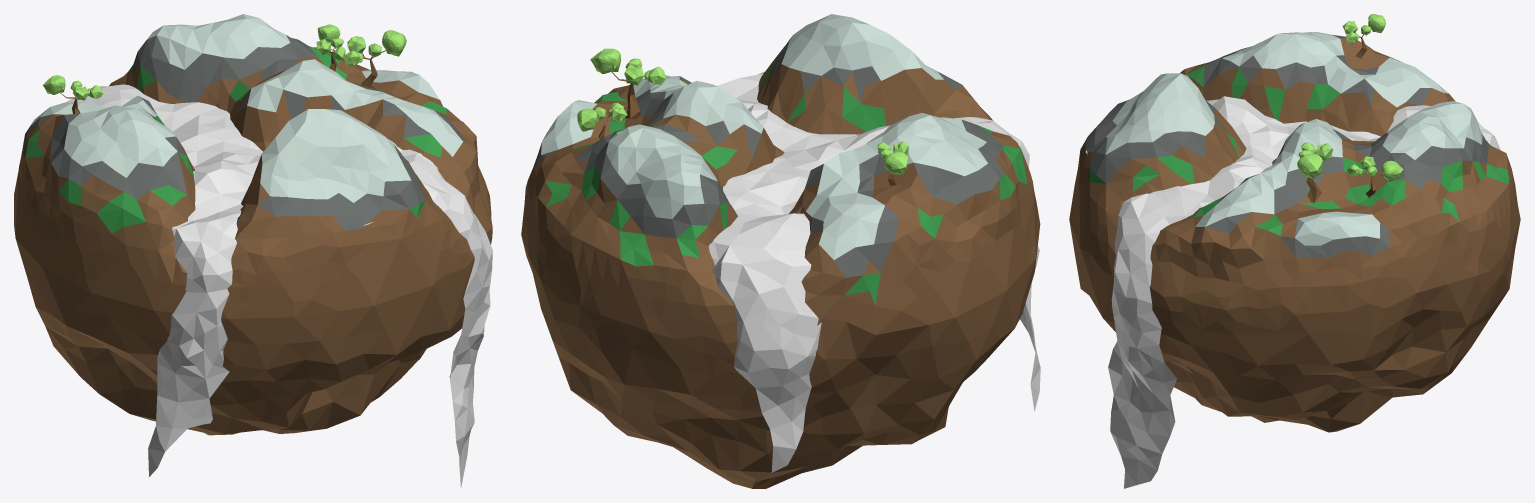
File: island1.glb
3 views of the same model, side by side, from view 1: azimuth 30°, elevation 25°; view 2: azimuth 150°, elevation 25°; view 3: azimuth 270°, elevation 25° (orthographic). The views are drawn at different scales.
Parts seen in each view (by area): view 1: Icosphere.002, Plane.059; view 2: Icosphere.002, Plane.059, Icosphere.005; view 3: Icosphere.002, Plane.059, Icosphere.005.
Part boxes in pixels (bbox=[...]): Icosphere.002: bbox=[14, 14, 492, 435]; Plane.059: bbox=[66, 84, 492, 487]; Icosphere.002: bbox=[521, 14, 1040, 488]; Plane.059: bbox=[708, 71, 1040, 472]; Icosphere.005: bbox=[590, 48, 621, 73]; Icosphere.002: bbox=[1069, 32, 1520, 432]; Plane.059: bbox=[1085, 96, 1500, 488]; Icosphere.005: bbox=[1297, 154, 1322, 178].
Bounding box in the file's own units: 18.38 × 16.18 × 18.38.
